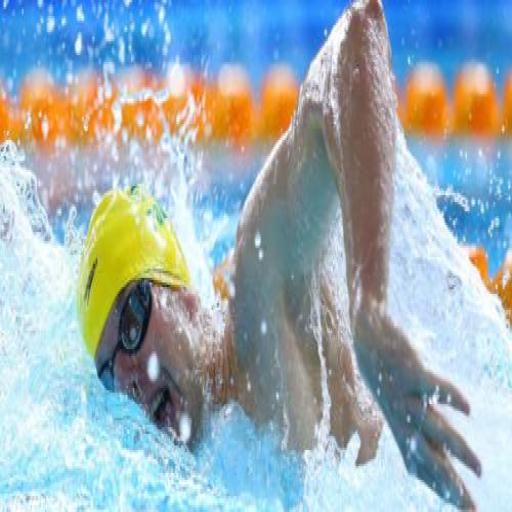swimming: (74, 0, 483, 510)
